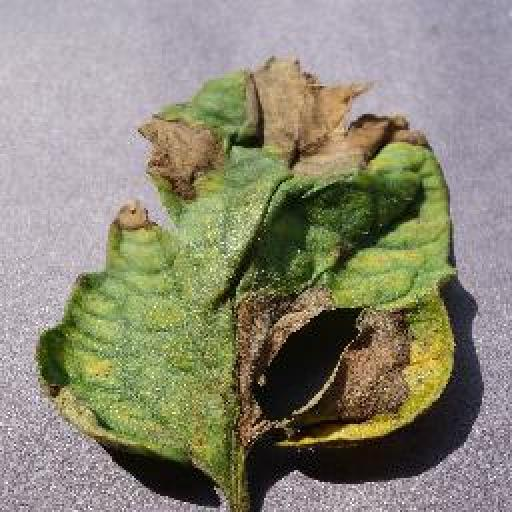Late Blight: (35, 53, 465, 463)
